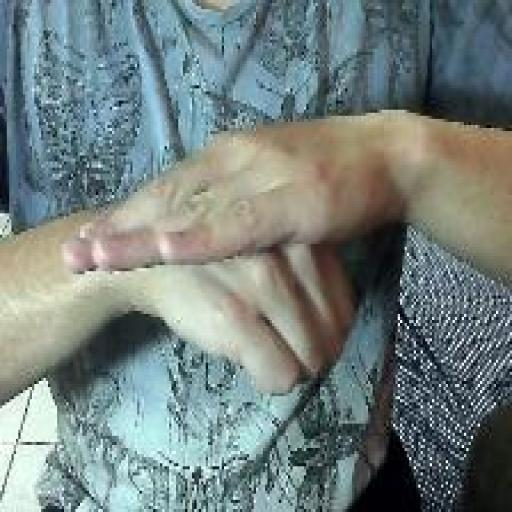Inu -dog-: (60, 120, 361, 401)
